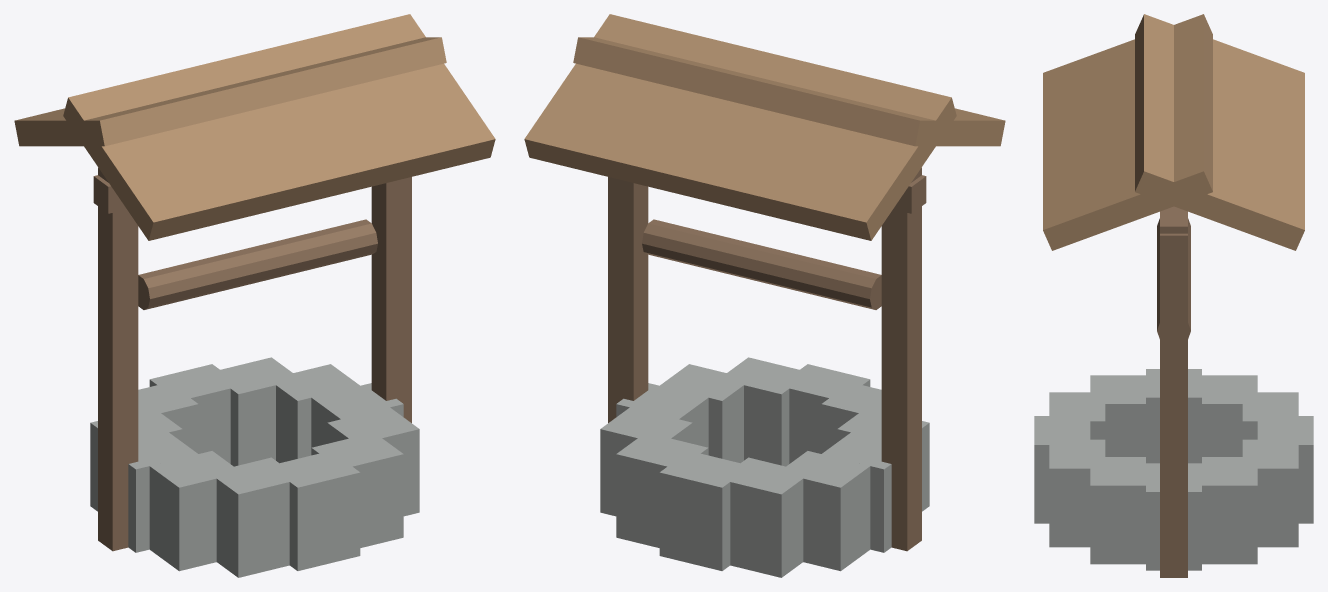
The model's file is well.glb.
The picture shows the model from 3 angles, left to right: view 1: azimuth 30°, elevation 25°; view 2: azimuth 150°, elevation 25°; view 3: azimuth 270°, elevation 25°; orthographic projection. The views are drawn at different scales.
Parts seen in each view (by area): view 1: well_2, well_0, well_1; view 2: well_2, well_0, well_1; view 3: well_2, well_0, well_1.
Boxes of the visible parts, bbox=[...] form: well_2: bbox=[14, 14, 495, 240]; well_0: bbox=[90, 357, 419, 577]; well_1: bbox=[93, 167, 411, 551]; well_2: bbox=[524, 14, 1005, 240]; well_0: bbox=[600, 357, 929, 577]; well_1: bbox=[608, 167, 926, 551]; well_2: bbox=[1043, 14, 1304, 250]; well_0: bbox=[1034, 369, 1313, 570]; well_1: bbox=[1157, 206, 1190, 577].
Size of the model in its own units: 1.2 by 1.48 by 0.9.
